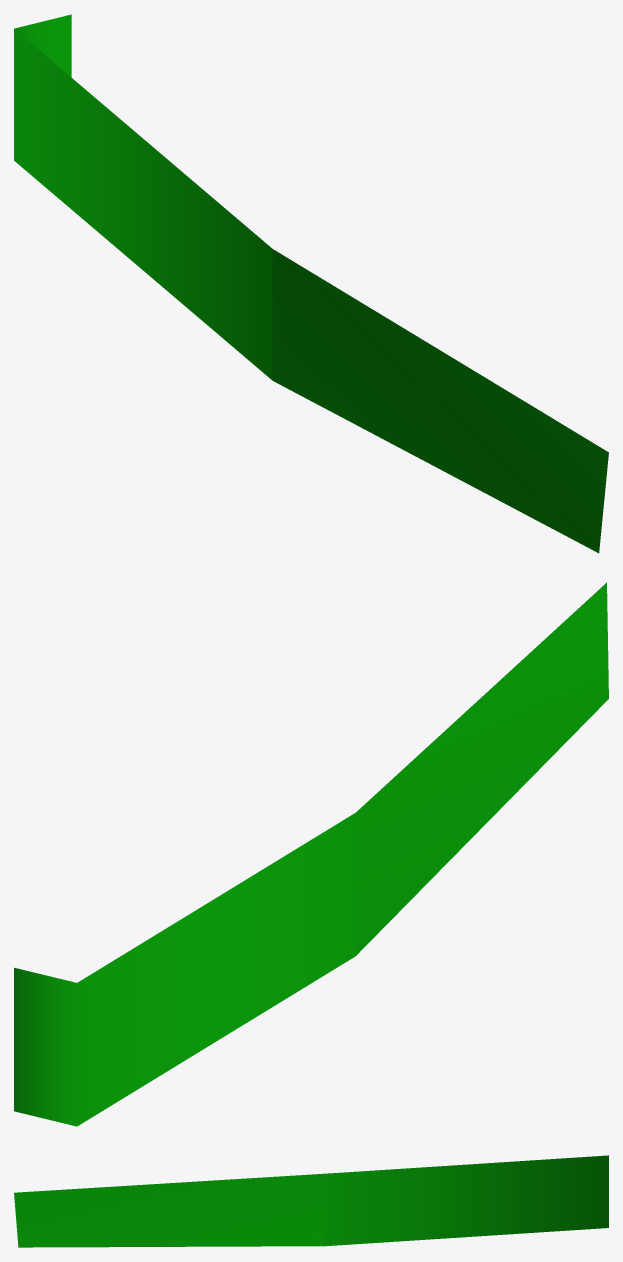
File: M8_Idiot_Stopper_13.glb
3 renders of one model, top to bottom at view 1: azimuth 30°, elevation 25°; view 2: azimuth 150°, elevation 25°; view 3: azimuth 270°, elevation 25°, orthographic. The views are drawn at different scales.
Visible parts, largest first — view 1: M8_IDIOT_STOPPER_13; view 2: M8_IDIOT_STOPPER_13; view 3: M8_IDIOT_STOPPER_13.
Boxes of the visible parts, box(x1,y1,x2,y2) form: M8_IDIOT_STOPPER_13: box(14, 14, 608, 553); M8_IDIOT_STOPPER_13: box(14, 582, 608, 1126); M8_IDIOT_STOPPER_13: box(14, 1155, 608, 1247).
Bounding box in the file's own units: 3.9 × 10.59 × 63.16.
